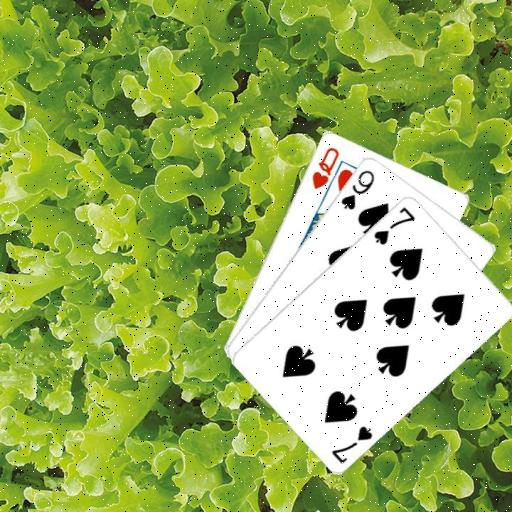7S: (371, 203, 417, 247), (328, 422, 374, 466)
9S: (338, 167, 376, 212)
QH: (309, 143, 341, 191)
